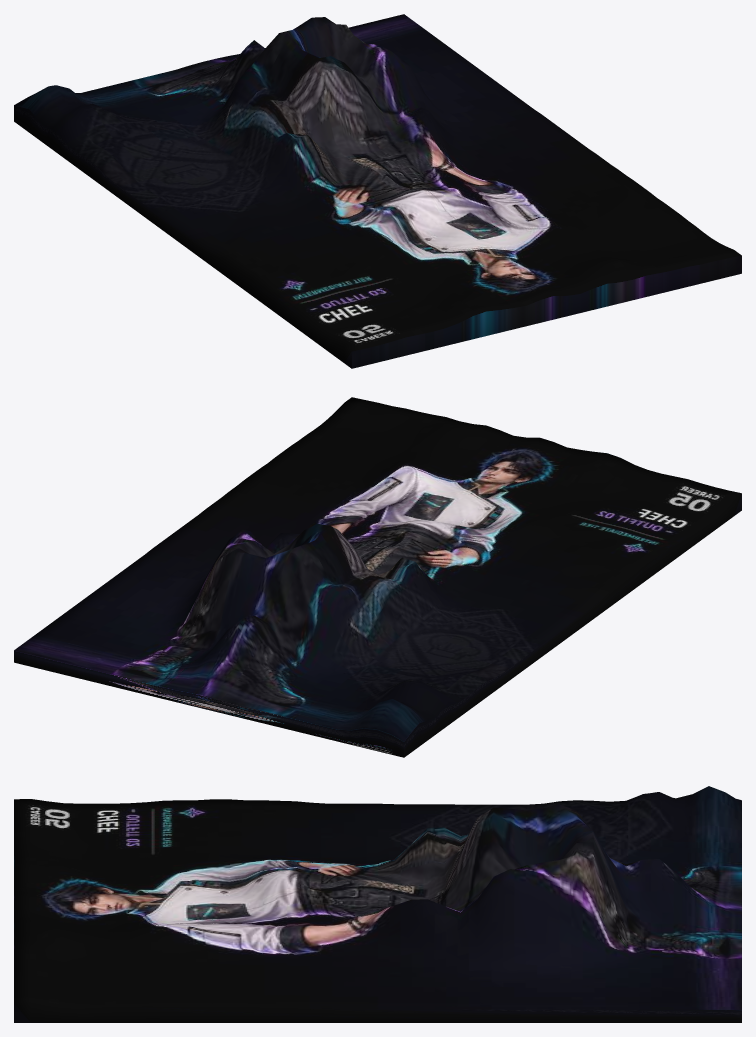
The model's file is CAREER_05_Outfit_02_Intermediate.glb.
3 renders of one model, top to bottom at view 1: azimuth 30°, elevation 25°; view 2: azimuth 150°, elevation 25°; view 3: azimuth 270°, elevation 25°, orthographic. The views are drawn at different scales.
Parts seen in each view (by area): view 1: CAREER_05_Outfit_02_Intermediate; view 2: CAREER_05_Outfit_02_Intermediate; view 3: CAREER_05_Outfit_02_Intermediate.
Part boxes in pixels (<box>): CAREER_05_Outfit_02_Intermediate: <box>14,14,741,368</box>; CAREER_05_Outfit_02_Intermediate: <box>14,397,741,757</box>; CAREER_05_Outfit_02_Intermediate: <box>14,786,741,1022</box>.
Size of the model in its own units: 2 by 0.51 by 3.
Materials: 1 (1 with a texture image).
